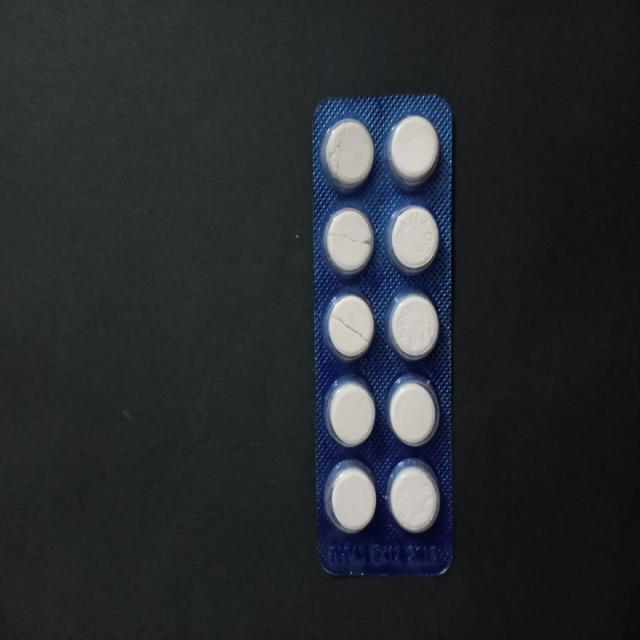defect: (323, 290, 377, 364), (322, 118, 376, 191), (324, 206, 375, 276)
